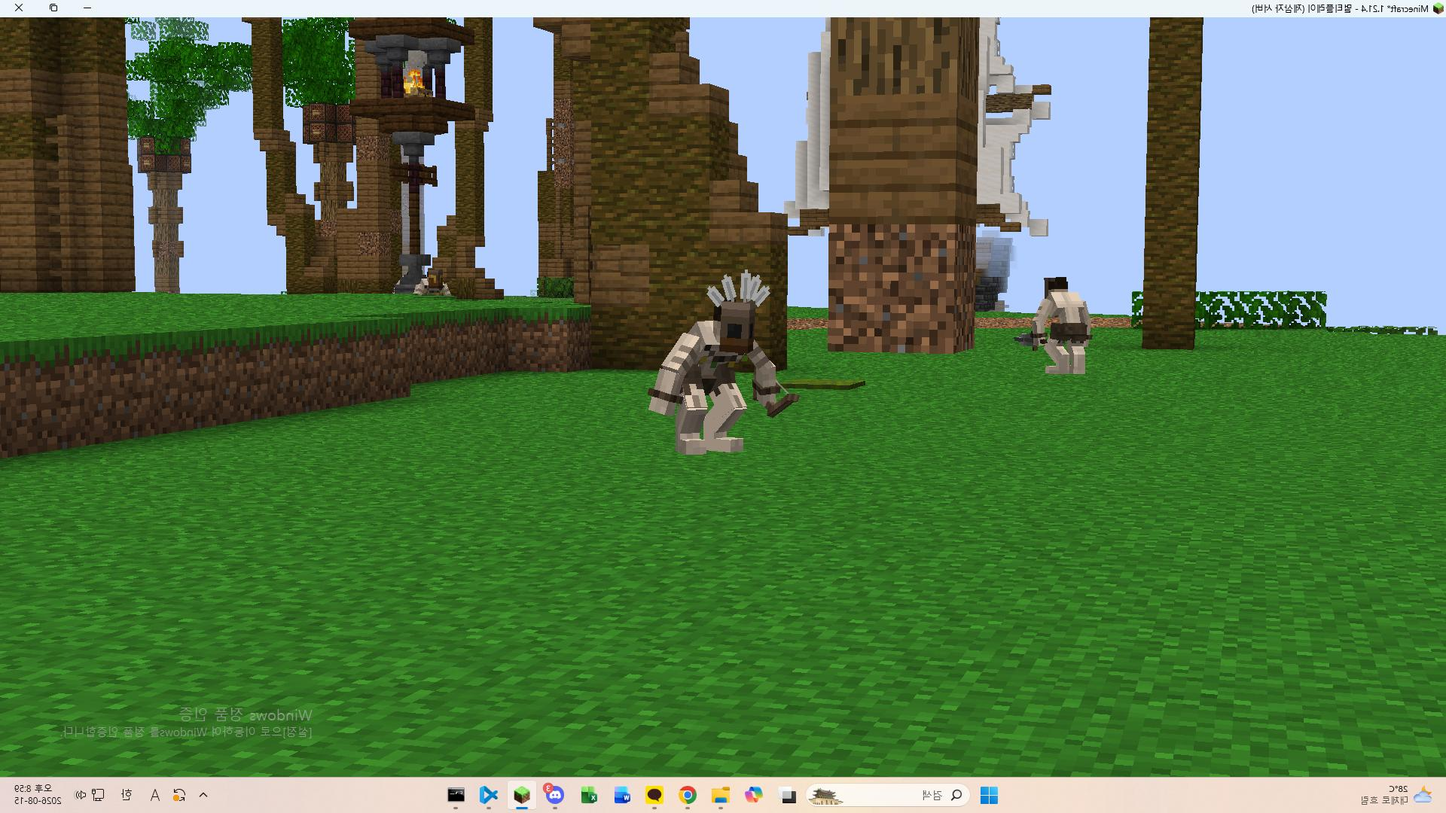bow_indian: (622, 251, 855, 466)
